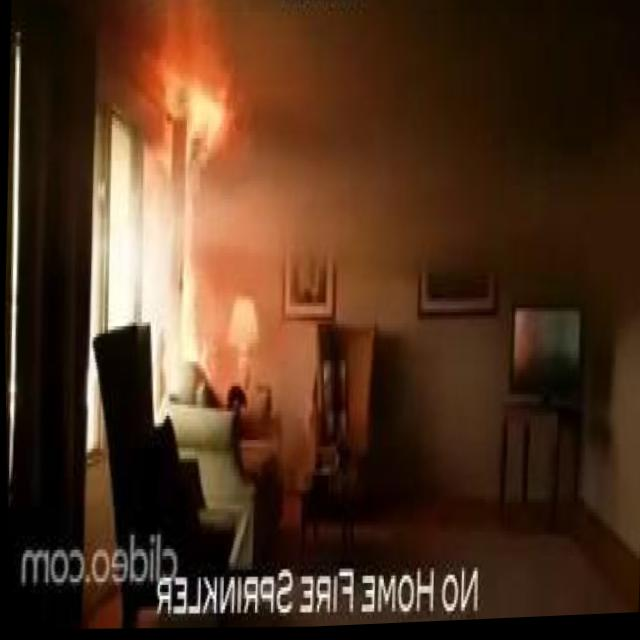fire: (181, 60, 230, 195), (162, 43, 238, 117)
